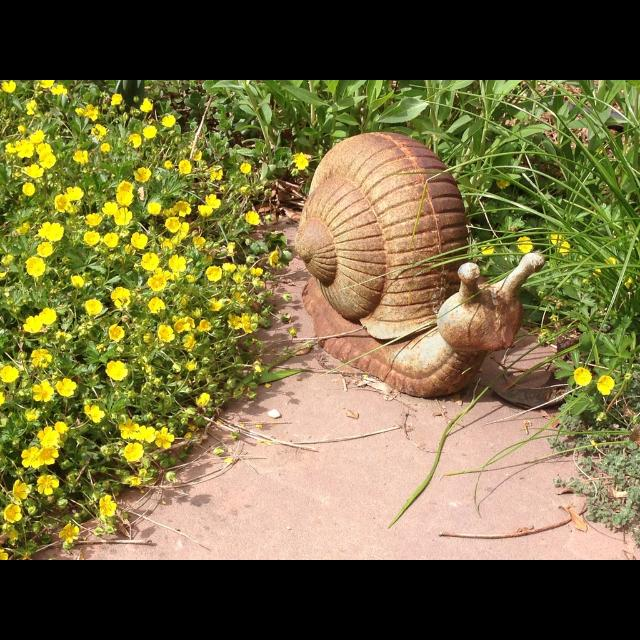Flower: (0, 80, 308, 560), (552, 236, 570, 256), (594, 376, 614, 394), (574, 367, 590, 388), (27, 256, 41, 278), (518, 237, 532, 255), (483, 243, 495, 254)
